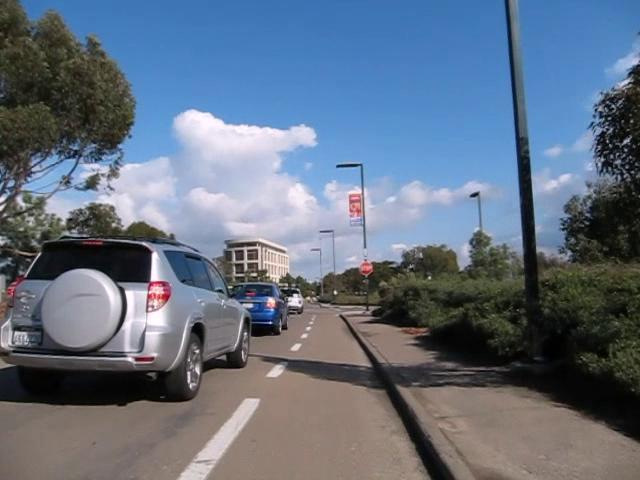stop: (359, 260, 373, 275)
